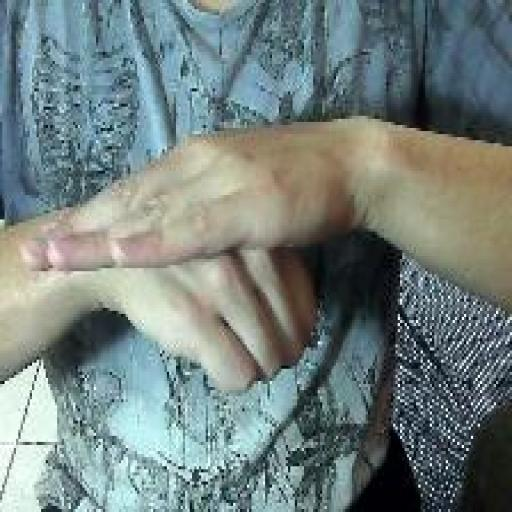Inu -dog-: (17, 126, 324, 401)
